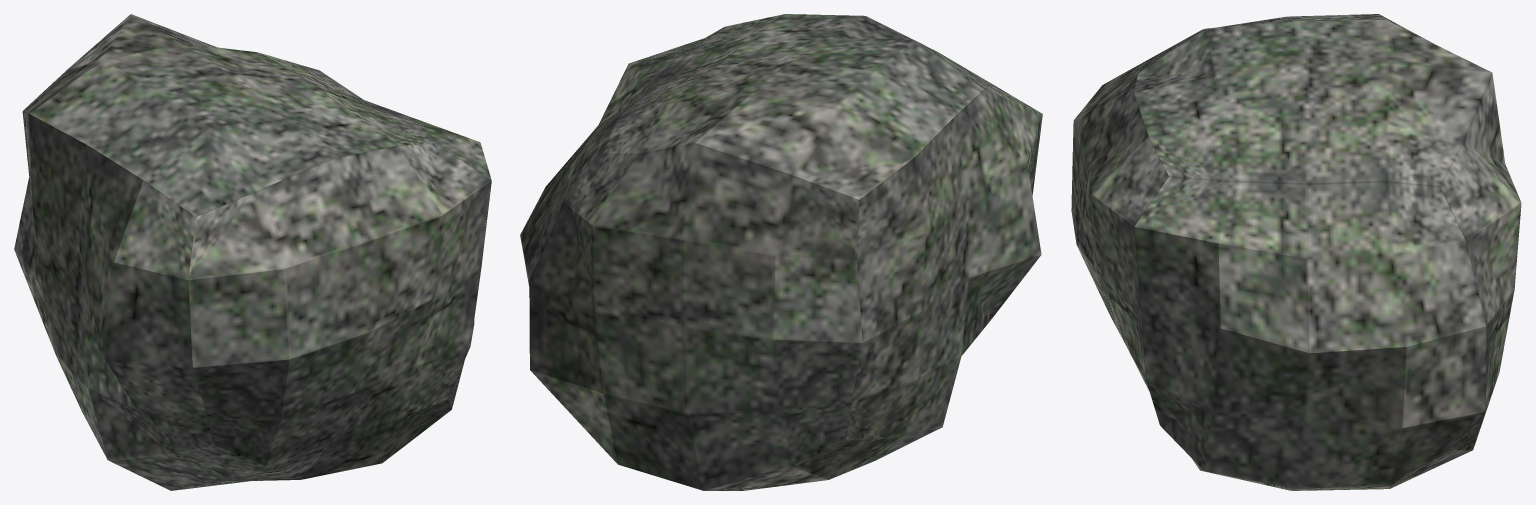
Rendered from SM_EC_Rock_73.fbx.
3 views of the same model, side by side, from view 1: azimuth 30°, elevation 25°; view 2: azimuth 150°, elevation 25°; view 3: azimuth 270°, elevation 25° (orthographic). The views are drawn at different scales.
Parts seen in each view (by area): view 1: SM_EC_Rock_73; view 2: SM_EC_Rock_73; view 3: SM_EC_Rock_73.
Part boxes in pixels (box(x1,y1,x2,y2)): SM_EC_Rock_73: box(14, 14, 491, 490); SM_EC_Rock_73: box(520, 14, 1042, 490); SM_EC_Rock_73: box(1071, 14, 1521, 490).
Bounding box in the file's own units: 1.17 × 1.1 × 1.06.
